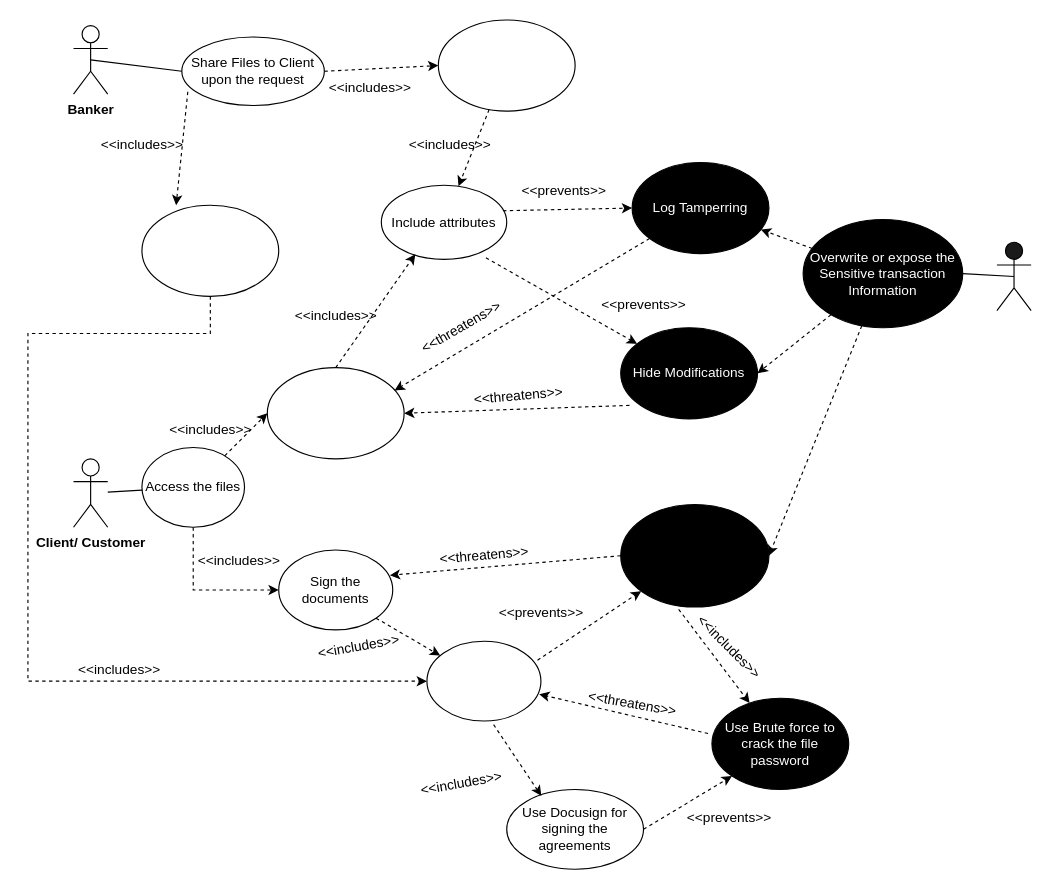
Image size: 1057x889. Some labels were removed from this diagram. The centre of each missing label's shape, as x and y in pixels:
"Hacker" goes at (1013,276).
"Modify the contents of the file to include false agreement terms" goes at (694,555).
"Password protection files" goes at (483,680).
"Send Customer Log Records" goes at (506,65).
"Share Documents for signature" goes at (210,250).
"View Transactions and Account Summary" goes at (335,413).
